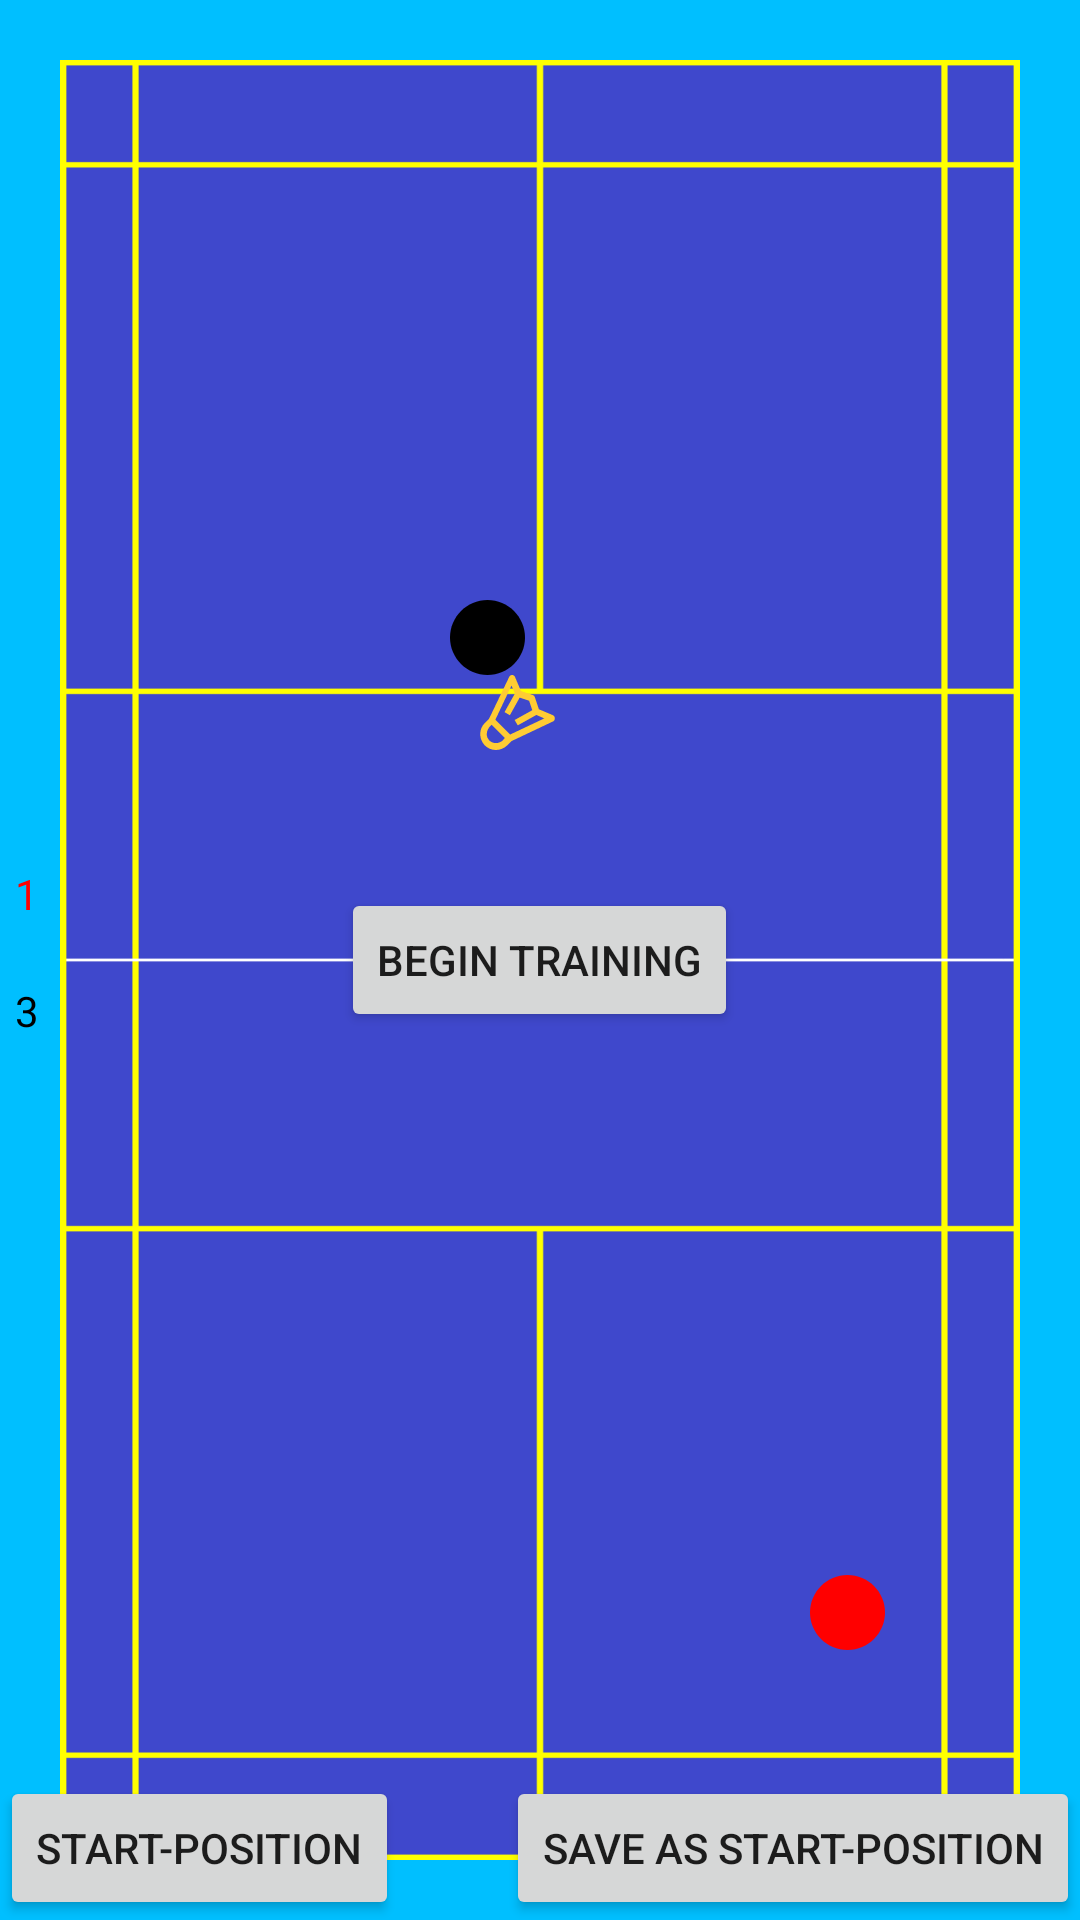

Icon bounding boxes for this 1080w x 1920h phone screenshot, format BBox(x1, y1, x2, y2):
Feather Ball: BBox(480, 675, 555, 750)
